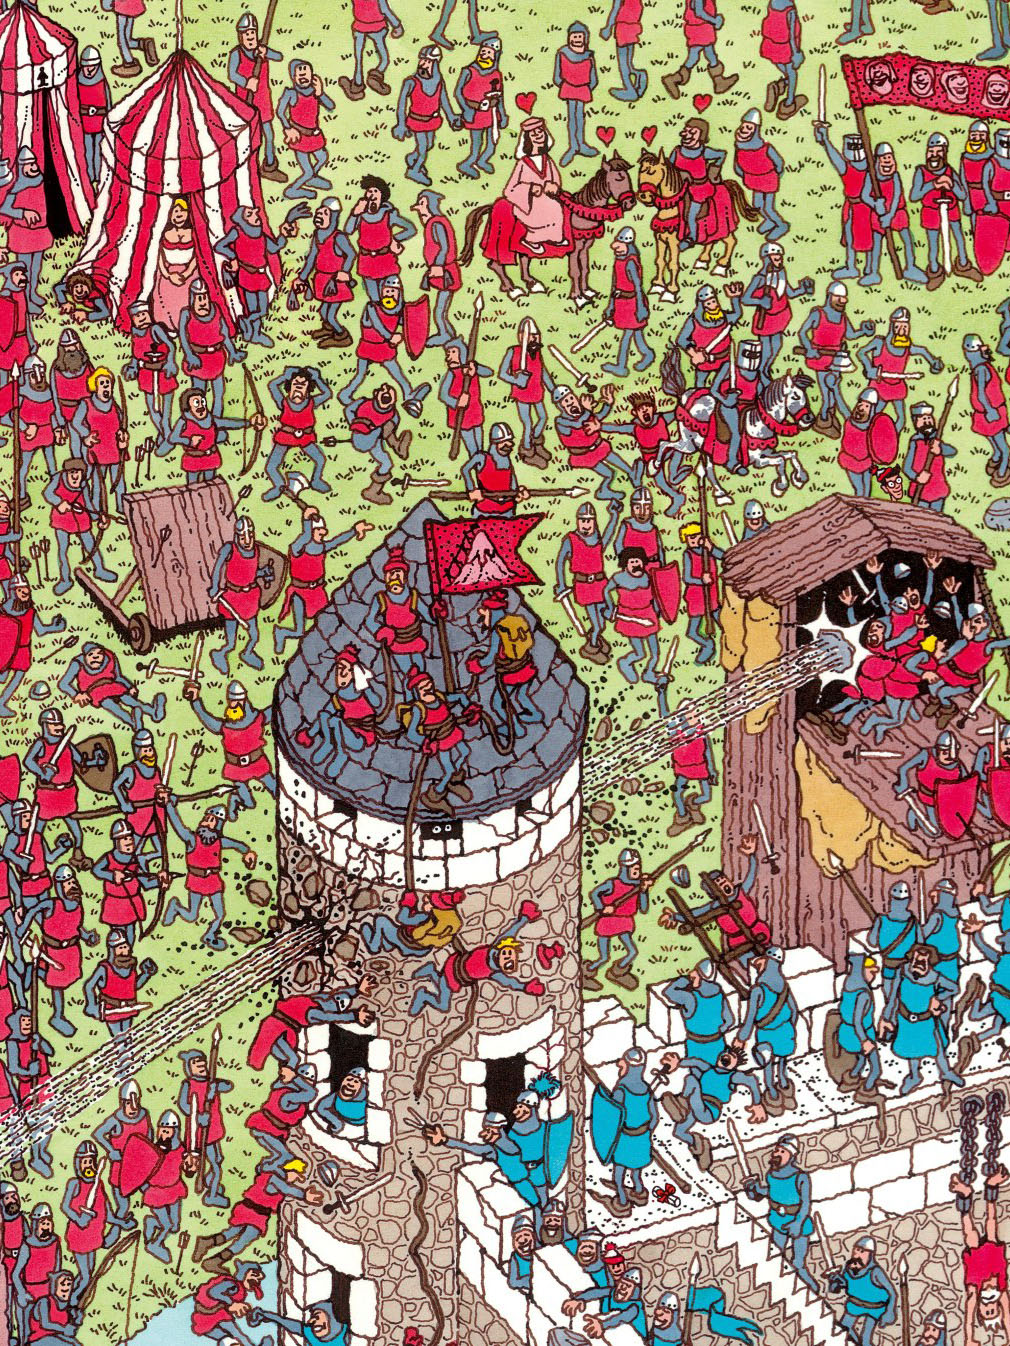waldo: (875, 460, 910, 503)
